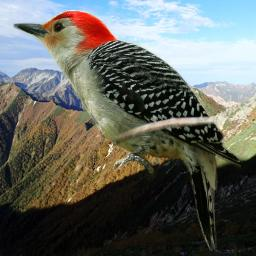Cuckoo: (90, 140, 116, 183)
Woodpecker: (13, 9, 241, 251)
